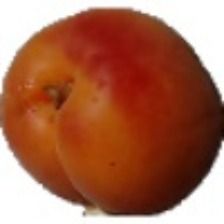apricot: (31, 0, 201, 197)
